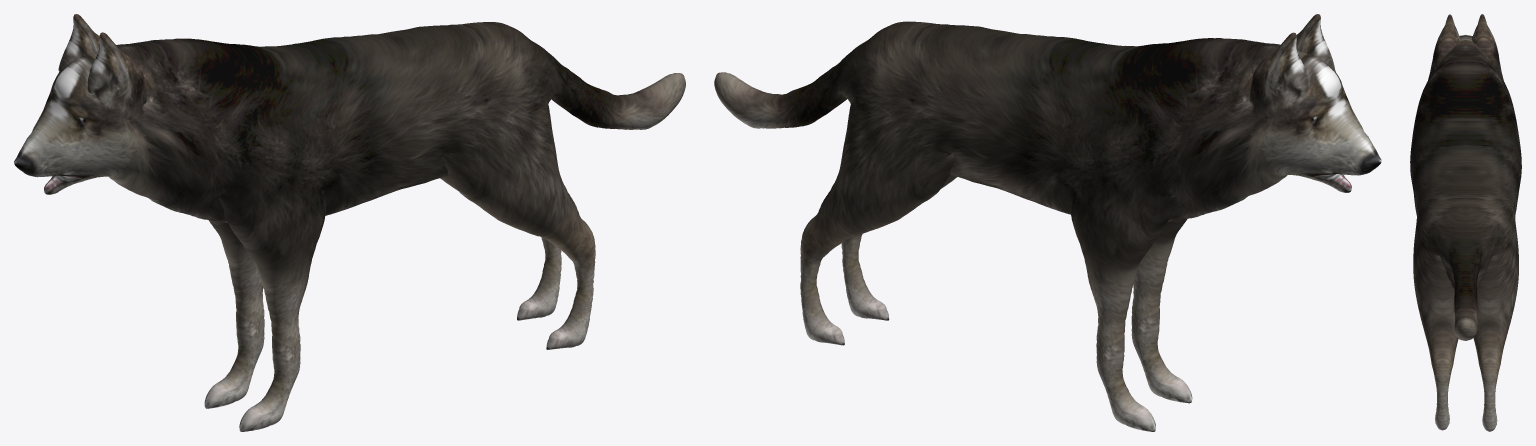
Rendered from wolf_anim.glb.
3 renders of one model, left to right at view 1: azimuth 30°, elevation 25°; view 2: azimuth 150°, elevation 25°; view 3: azimuth 270°, elevation 25°, orthographic. The views are drawn at different scales.
Bounding box in the file's own units: 9.75 × 6 × 2.2.
1 material, 1 textured.
